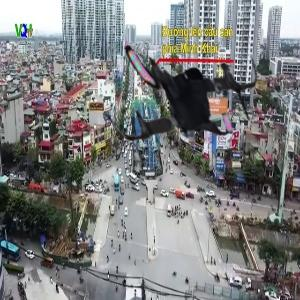drone: (98, 1, 265, 168)
